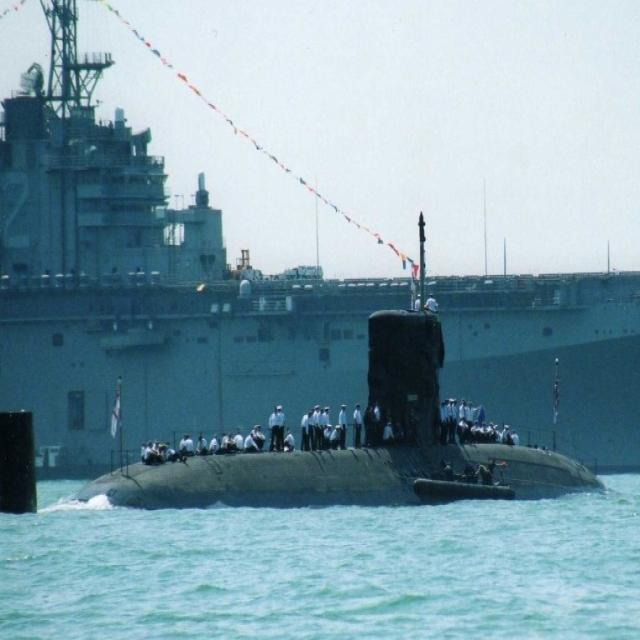submarine: (1, 206, 640, 518)
